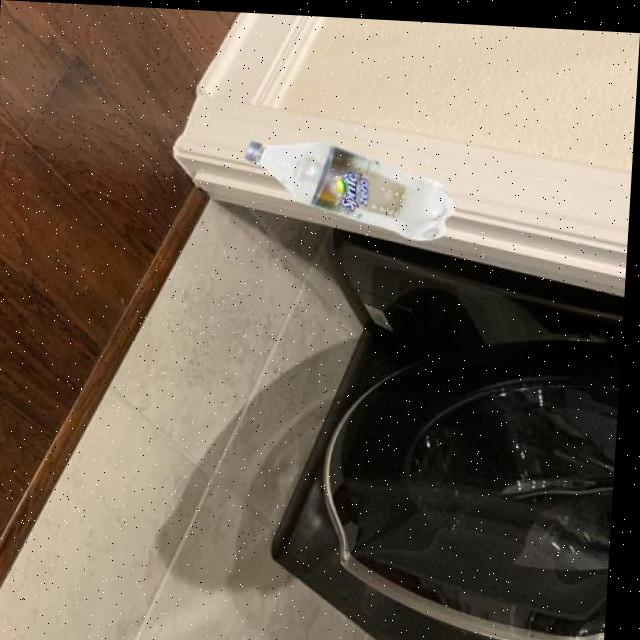bottle: (243, 134, 462, 238)
